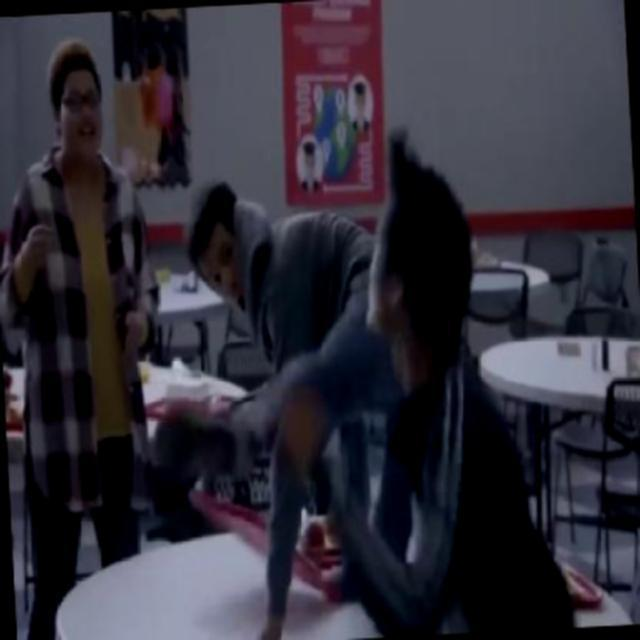fight: (150, 151, 570, 638)
non-fight: (0, 30, 169, 572)
